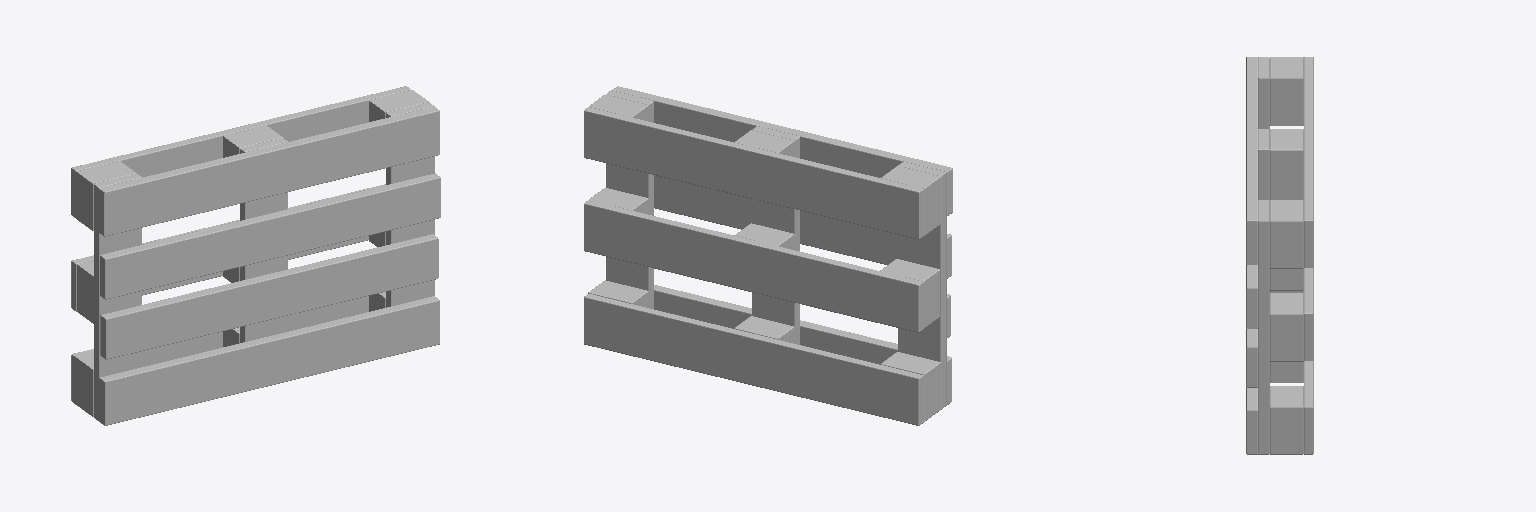
The model's file is pallet_1.obj.
3 views of the same model, side by side, from view 1: azimuth 30°, elevation 25°; view 2: azimuth 150°, elevation 25°; view 3: azimuth 270°, elevation 25° (orthographic).
Parts seen in each view (by area): view 1: obj1; view 2: obj1; view 3: obj1.
Part boxes in pixels (left/top/right/bottom): obj1: left=71, top=86, right=440, bottom=425; obj1: left=584, top=86, right=952, bottom=425; obj1: left=1246, top=57, right=1313, bottom=454.
Size of the model in its own units: 120 by 80.04 by 20.86.